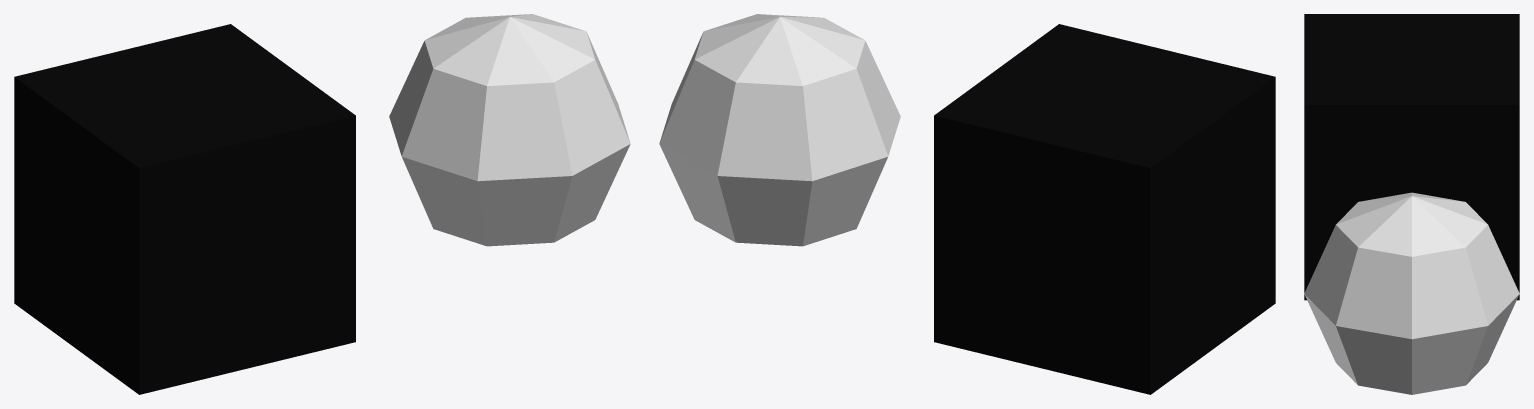
File: formats.out_scene.glb
3 views of the same model, side by side, from view 1: azimuth 30°, elevation 25°; view 2: azimuth 150°, elevation 25°; view 3: azimuth 270°, elevation 25° (orthographic). The views are drawn at different scales.
Parts seen in each view (by area): view 1: Cube, Sphere; view 2: Cube, Sphere; view 3: Cube, Sphere.
Boxes of the visible parts, x1,y1,x2,y2 form: Cube: (14,24,355,394); Sphere: (389,14,630,246); Cube: (934,24,1275,394); Sphere: (659,14,900,246); Cube: (1304,14,1519,300); Sphere: (1304,192,1519,394).
Size of the model in its own units: 5 by 2 by 2.
1 material, 1 textured.
